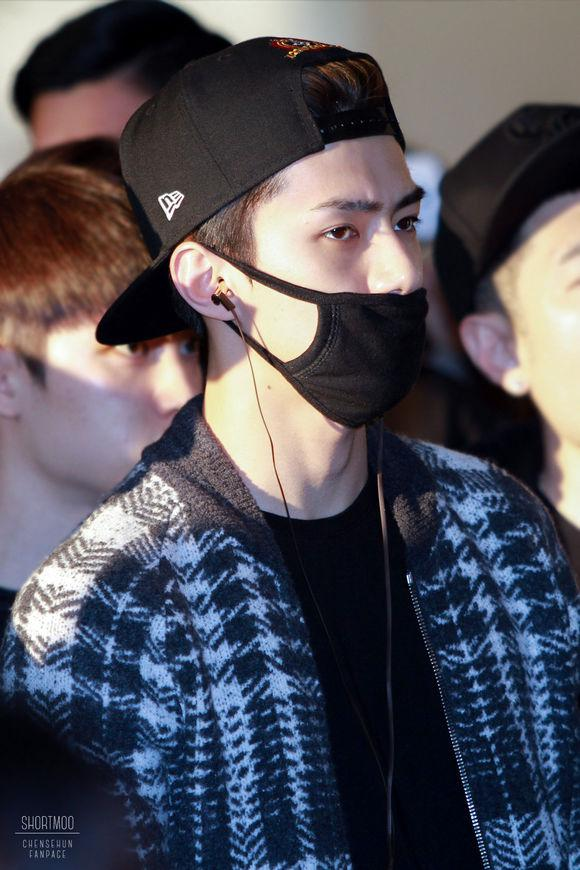NONE: (47, 311, 222, 493)
WRONG: (229, 183, 459, 413)
